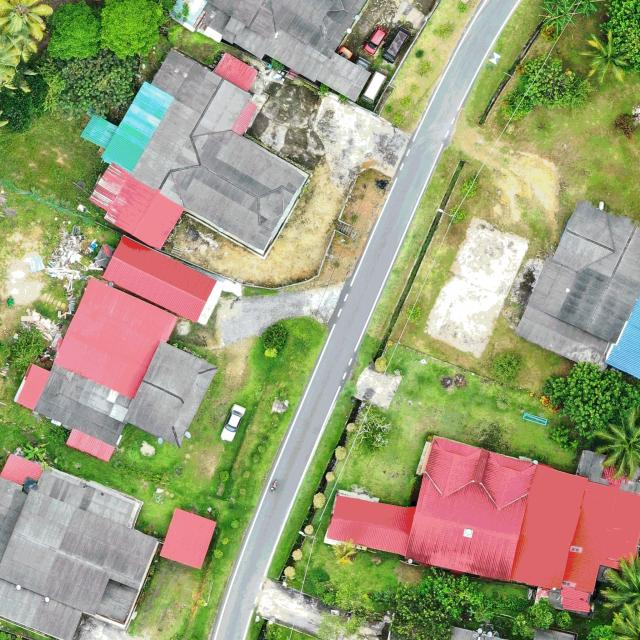Tree: (540, 360, 640, 441), (389, 565, 484, 640), (62, 49, 136, 120), (519, 50, 597, 114), (99, 0, 164, 59), (592, 409, 640, 481), (45, 0, 100, 61), (580, 29, 634, 86), (344, 402, 393, 454), (599, 553, 640, 610), (0, 0, 54, 40), (538, 0, 578, 39), (612, 603, 640, 640), (526, 598, 556, 630), (261, 322, 290, 350), (459, 175, 480, 200), (21, 441, 47, 460), (447, 202, 467, 225), (554, 610, 574, 628), (313, 492, 326, 510), (334, 446, 348, 460), (291, 548, 304, 562), (284, 566, 296, 579), (325, 471, 336, 485), (220, 470, 230, 483), (304, 524, 314, 535), (231, 519, 240, 529)
